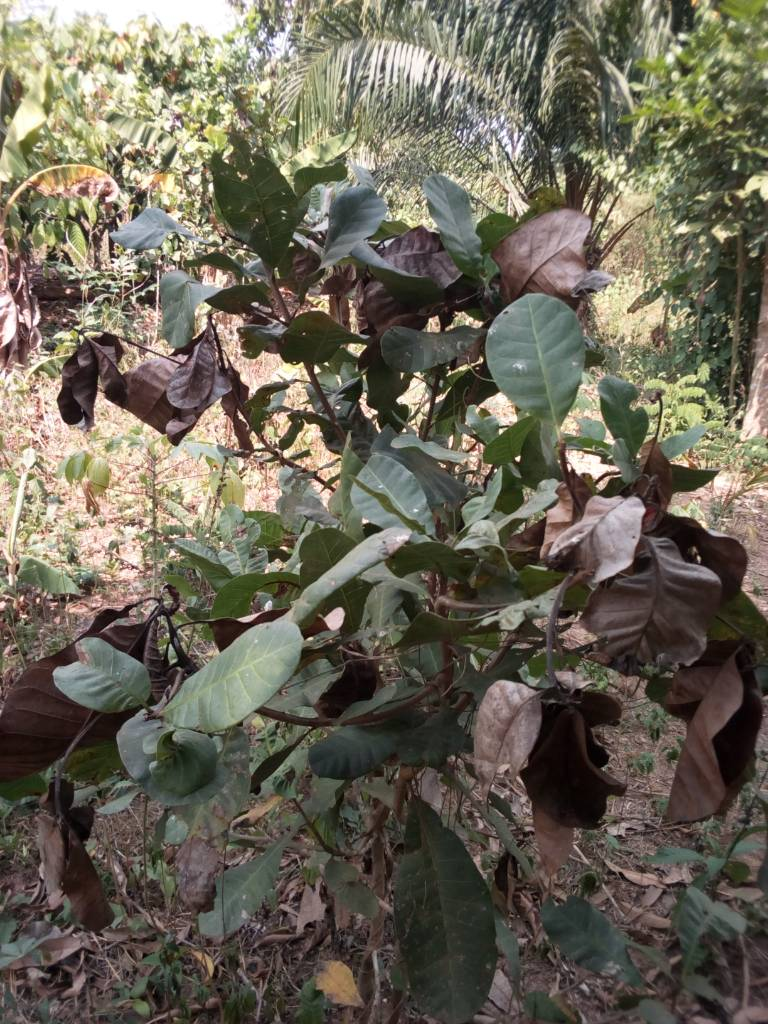Dessèchement des bourgeons: (58, 332, 128, 422), (92, 586, 189, 645)
